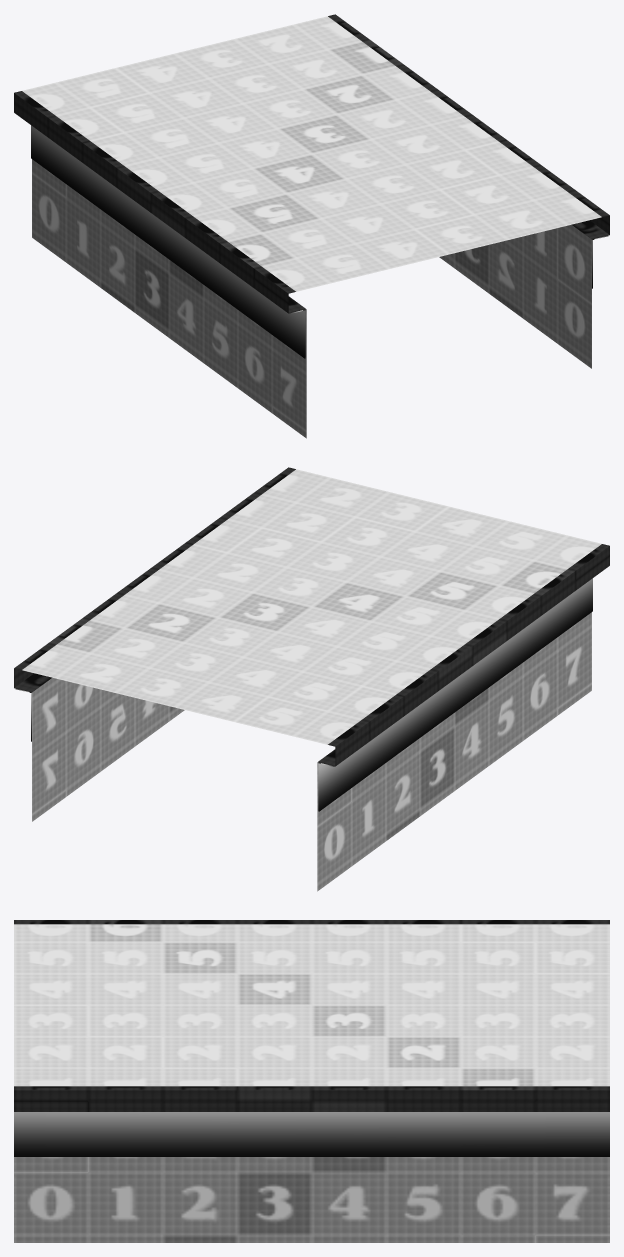
Rendered from Podium01_4.FBX.
The picture shows the model from 3 angles, top to bottom: view 1: azimuth 30°, elevation 25°; view 2: azimuth 150°, elevation 25°; view 3: azimuth 270°, elevation 25°; orthographic projection. The views are drawn at different scales.
Visible parts, largest first — view 1: Podium, Backlight; view 2: Podium, Backlight; view 3: Podium, Backlight.
Boxes of the visible parts, <box> form: Podium: <box>14,14,609,438</box>; Backlight: <box>31,125,608,358</box>; Podium: <box>14,467,609,891</box>; Backlight: <box>15,578,592,811</box>; Podium: <box>14,920,609,1242</box>; Backlight: <box>14,1112,609,1156</box>.
Bounding box in the file's own units: 169 × 75 × 250.
